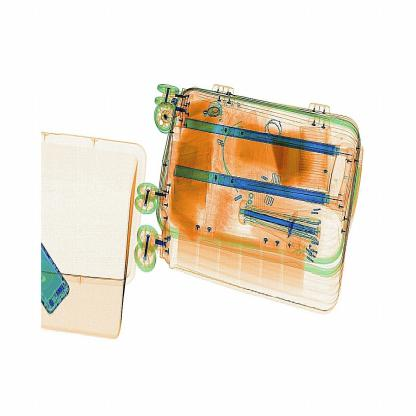pliers: (284, 204, 307, 248)
